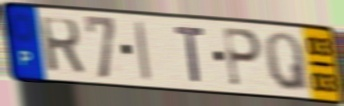7: (82, 13, 119, 83)
I: (133, 19, 153, 84)
P: (222, 25, 264, 90)
Q: (263, 30, 313, 94)
R: (37, 15, 87, 77)
T: (173, 25, 207, 85)
